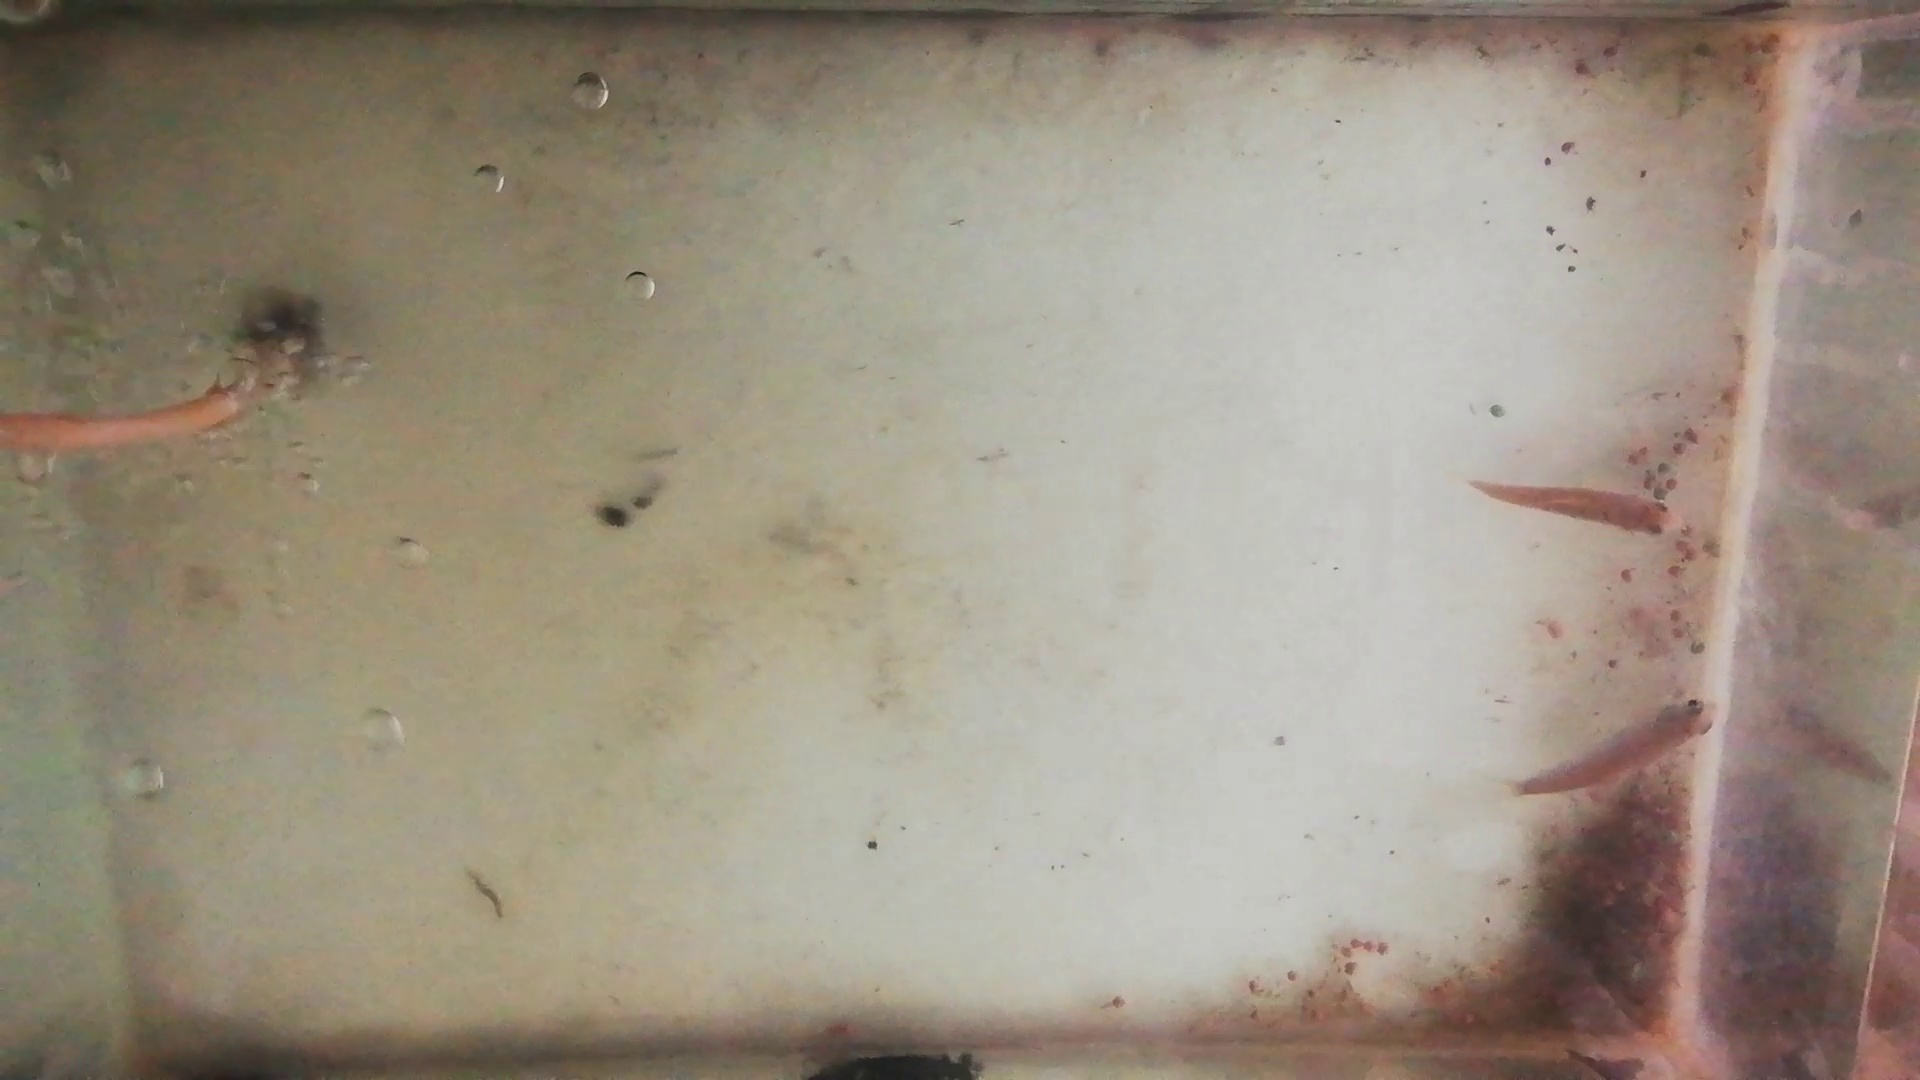fish: (1511, 695, 1714, 796), (1468, 476, 1685, 541)
